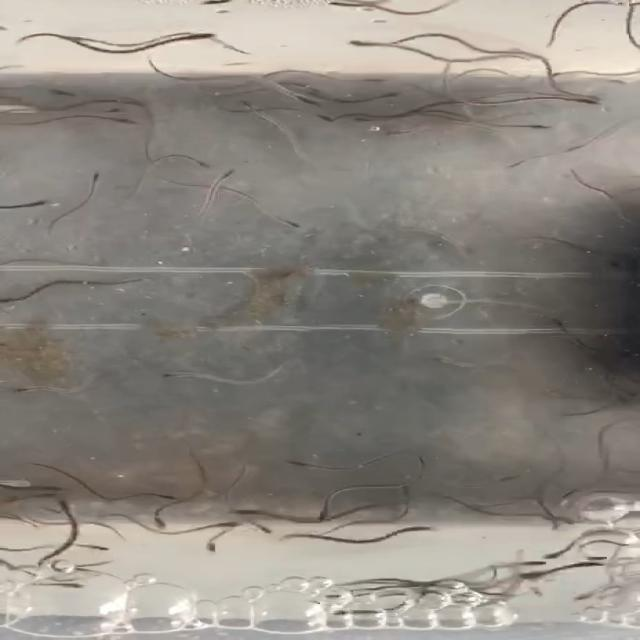active_glass_eel: (236, 514, 274, 539), (140, 506, 176, 530), (12, 511, 48, 535), (332, 605, 384, 620), (193, 534, 221, 560), (573, 583, 604, 606), (555, 488, 590, 508), (49, 31, 102, 44), (48, 574, 91, 590), (310, 497, 336, 523), (276, 456, 324, 470), (11, 196, 66, 208), (37, 84, 80, 99), (497, 473, 540, 488), (344, 37, 388, 51), (233, 99, 262, 120), (558, 96, 604, 109), (510, 554, 544, 571), (288, 94, 324, 110), (36, 504, 77, 518), (202, 517, 240, 532), (542, 514, 567, 536), (279, 213, 311, 230), (502, 156, 538, 171), (547, 314, 574, 334), (210, 167, 245, 182), (180, 154, 214, 169), (383, 129, 422, 142), (360, 90, 406, 101), (7, 380, 42, 394), (350, 116, 390, 128), (72, 542, 112, 554), (548, 512, 578, 528), (21, 490, 61, 502), (519, 123, 566, 133), (162, 368, 195, 382), (536, 72, 568, 86), (102, 117, 142, 128), (530, 550, 573, 560), (355, 75, 394, 86), (186, 30, 216, 44), (526, 582, 552, 598), (300, 115, 344, 124), (146, 491, 182, 502), (35, 484, 78, 493), (320, 0, 360, 9), (194, 0, 238, 8), (88, 170, 107, 188), (98, 104, 134, 113), (0, 295, 20, 310)
